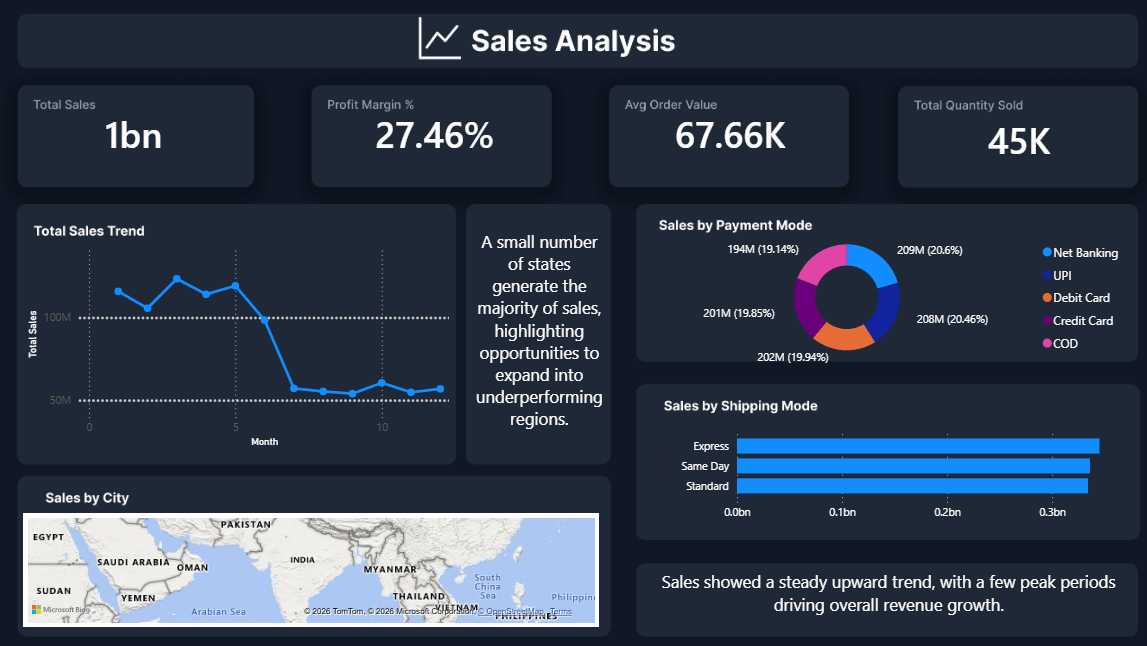

What the dashboard file says about the page in this screenshot:
{"tool":"powerbi","page":{"name":"Sales Analysis","canvas":[1280,720],"ordinal":1},"visuals":[{"type":"cardVisual","fields":{"Data":["Measures (3).Total Sales"]},"box":[26.7,96.7,246.7,101.7],"z":0},{"type":"cardVisual","fields":{"Data":["Measures (3).Average Order Value"]},"box":[690,96.7,245,101.7],"z":1000},{"type":"cardVisual","fields":{"Data":["Measures (3).Total Quantity"]},"box":[1008.3,108.3,250,90],"z":2000},{"type":"lineChart","fields":{"Category":["Dataset.Month"],"Y":["Measures (3).Total Sales"]},"box":[26.7,265,478.3,236.7],"z":3000},{"type":"donutChart","fields":{"Category":["Dataset.Payment_Method"],"Y":["Measures (3).Total Sales"]},"box":[720,250,538.3,160],"z":4000},{"type":"barChart","fields":{"Y":["Measures (3).Total Sales"],"Category":["Dataset.Ship_Mode"]},"box":[731.7,465,516.7,121.7],"z":5000},{"type":"filledMap","fields":{"Category":["Dataset.City"]},"box":[26.7,570,640,126.7],"z":6000},{"type":"textbox","box":[521.7,249.7,157.5,260.9],"z":7000},{"type":"cardVisual","fields":{"Data":["Measures (3).Profit Margin %"]},"box":[361.7,96.7,245,101.7],"z":8000},{"type":"textbox","box":[720.7,627.9,537.1,73.6],"z":9000}]}

Visuals, with their boxes in screenshot pixels (x1, y1, x2, y2), scaled from the page's 1280x720 canvas onto the 1147x646 screenshot:
cardVisual - Measures (3).Total Sales: {"left": 24, "top": 87, "right": 245, "bottom": 178}
cardVisual - Measures (3).Average Order Value: {"left": 618, "top": 87, "right": 838, "bottom": 178}
cardVisual - Measures (3).Total Quantity: {"left": 904, "top": 97, "right": 1128, "bottom": 178}
lineChart - Dataset.Month x Measures (3).Total Sales: {"left": 24, "top": 238, "right": 453, "bottom": 450}
donutChart - Dataset.Payment_Method x Measures (3).Total Sales: {"left": 645, "top": 224, "right": 1128, "bottom": 368}
barChart - Measures (3).Total Sales x Dataset.Ship_Mode: {"left": 656, "top": 417, "right": 1119, "bottom": 526}
filledMap - Dataset.City: {"left": 24, "top": 511, "right": 597, "bottom": 625}
textbox: {"left": 467, "top": 224, "right": 609, "bottom": 458}
cardVisual - Measures (3).Profit Margin %: {"left": 324, "top": 87, "right": 544, "bottom": 178}
textbox: {"left": 646, "top": 563, "right": 1127, "bottom": 629}
